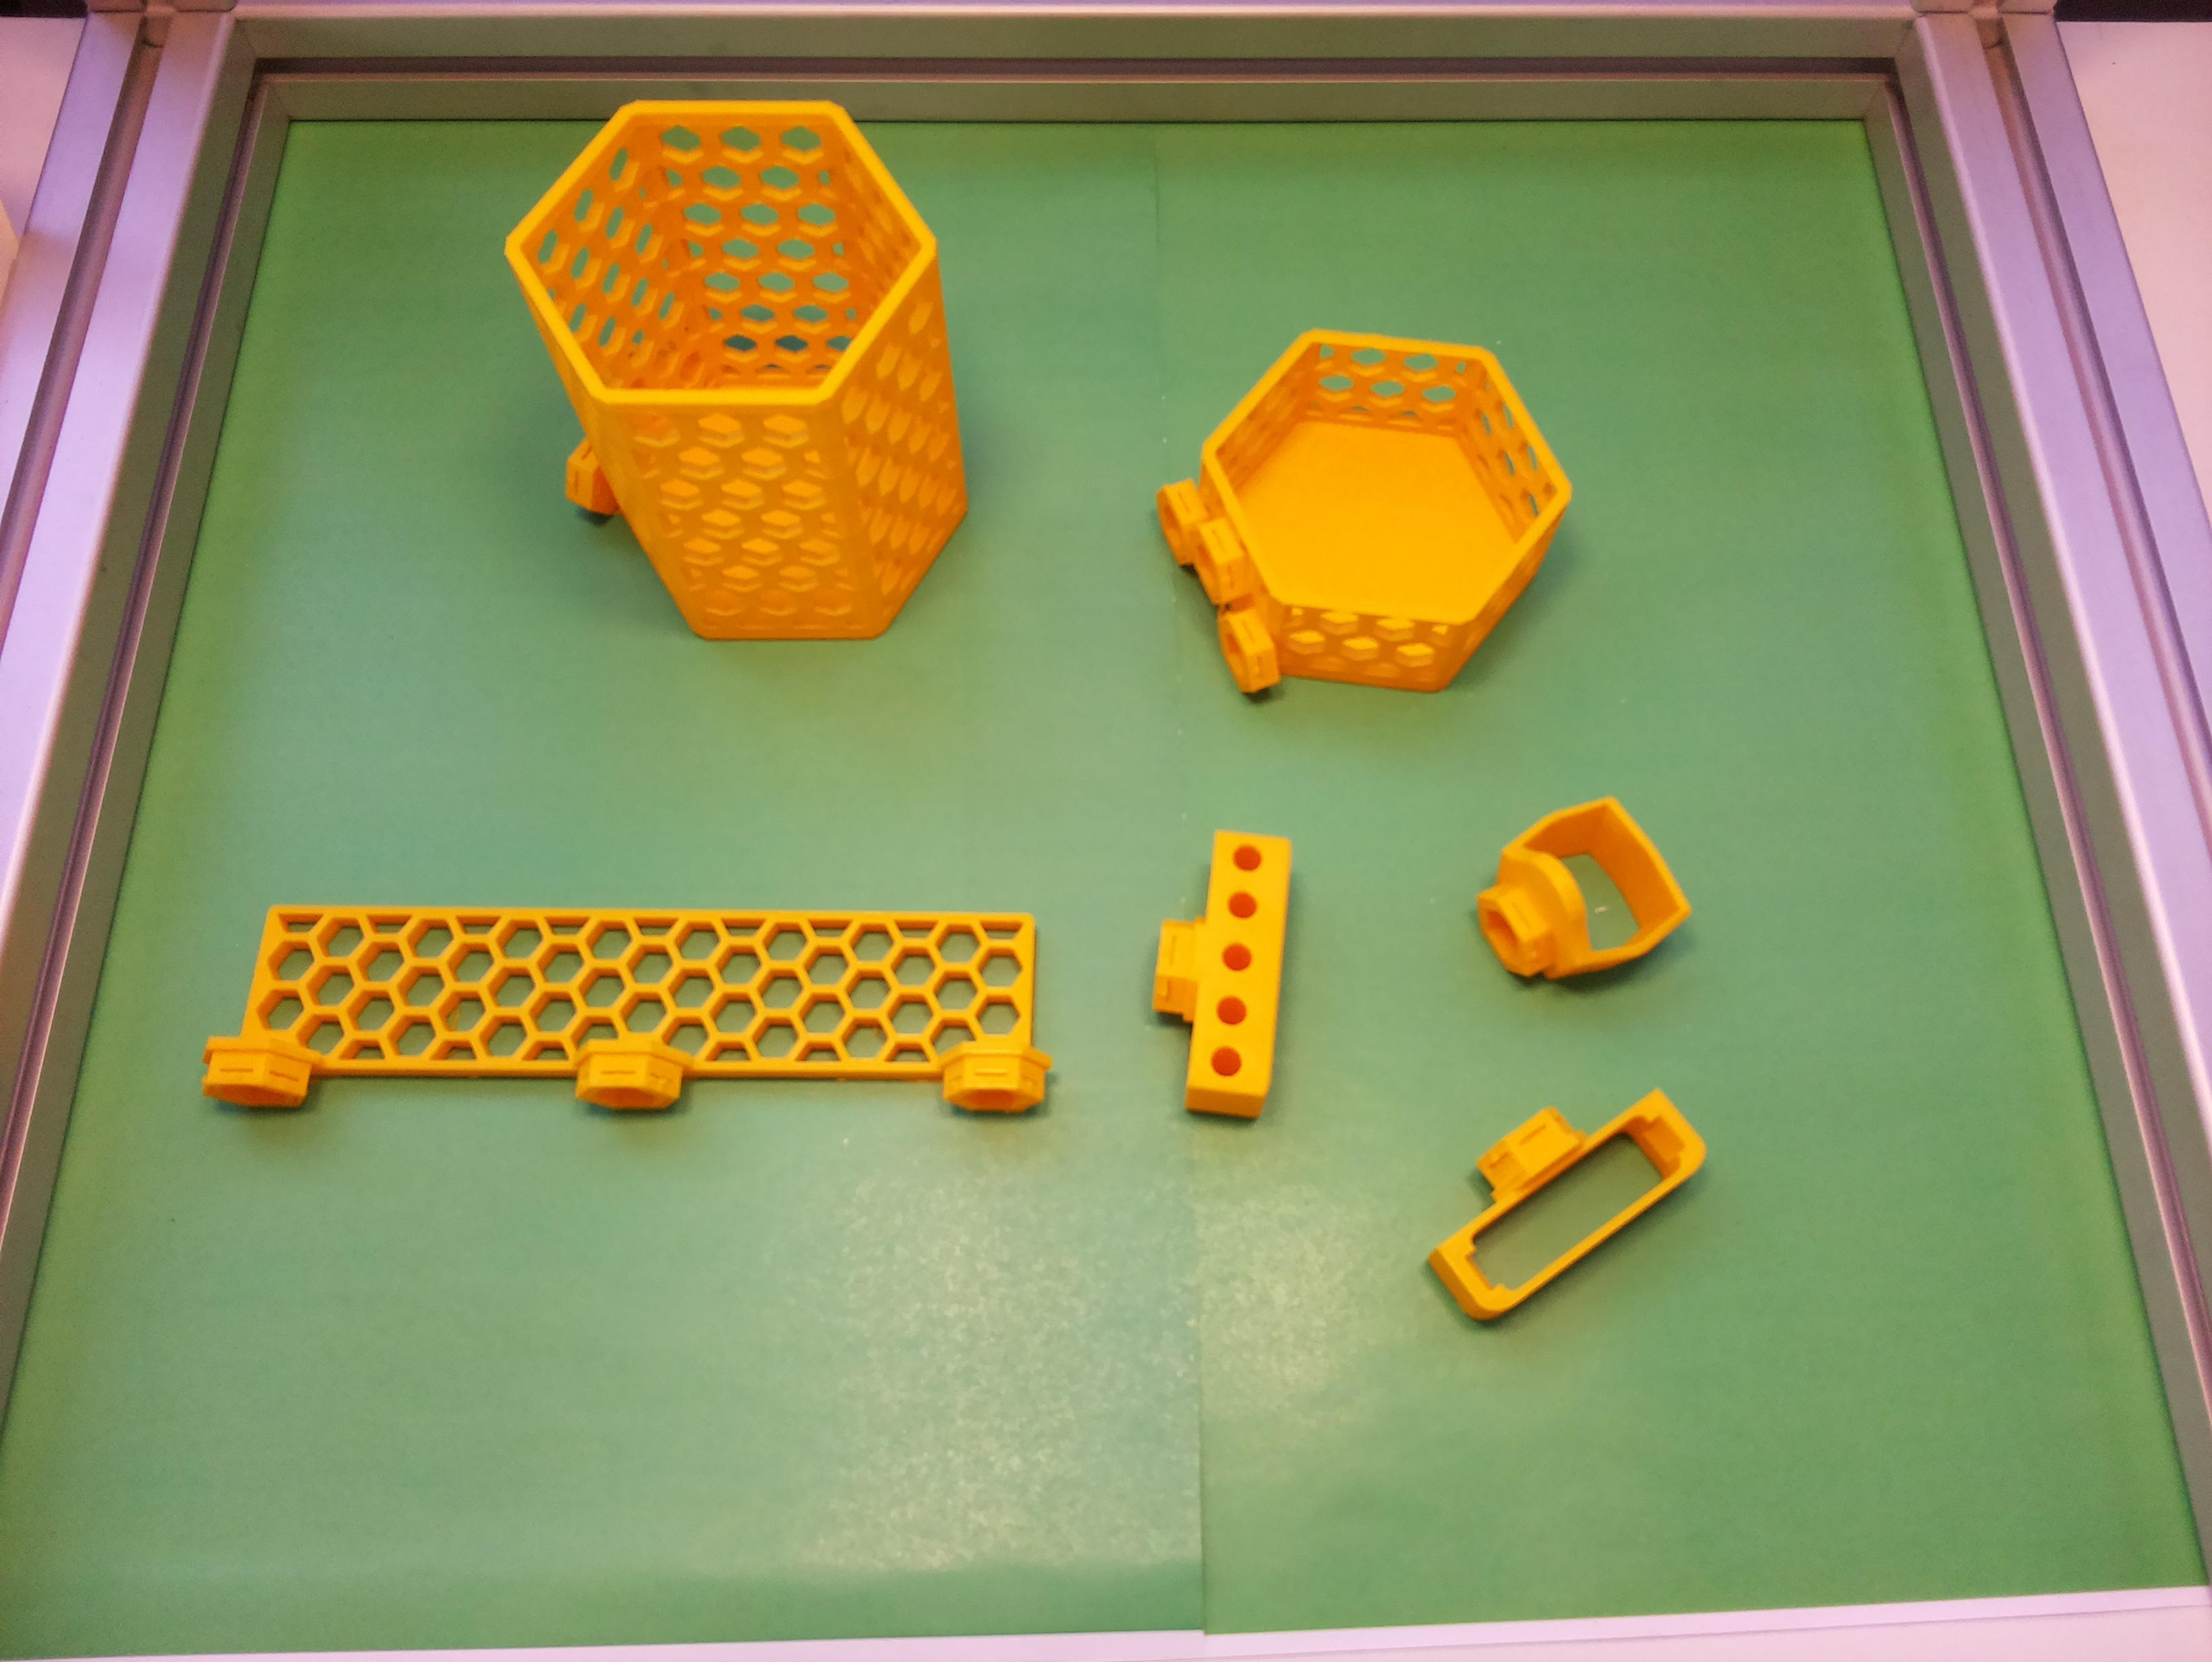bit_holder: (1144, 826, 1294, 1121)
bottle_holder: (1095, 250, 1634, 789)
cup_holder: (491, 68, 981, 676)
cutter_holder: (1395, 1044, 1716, 1334)
scissor_holder: (1449, 775, 1702, 1023)
tool_holder: (201, 904, 1053, 1116)
